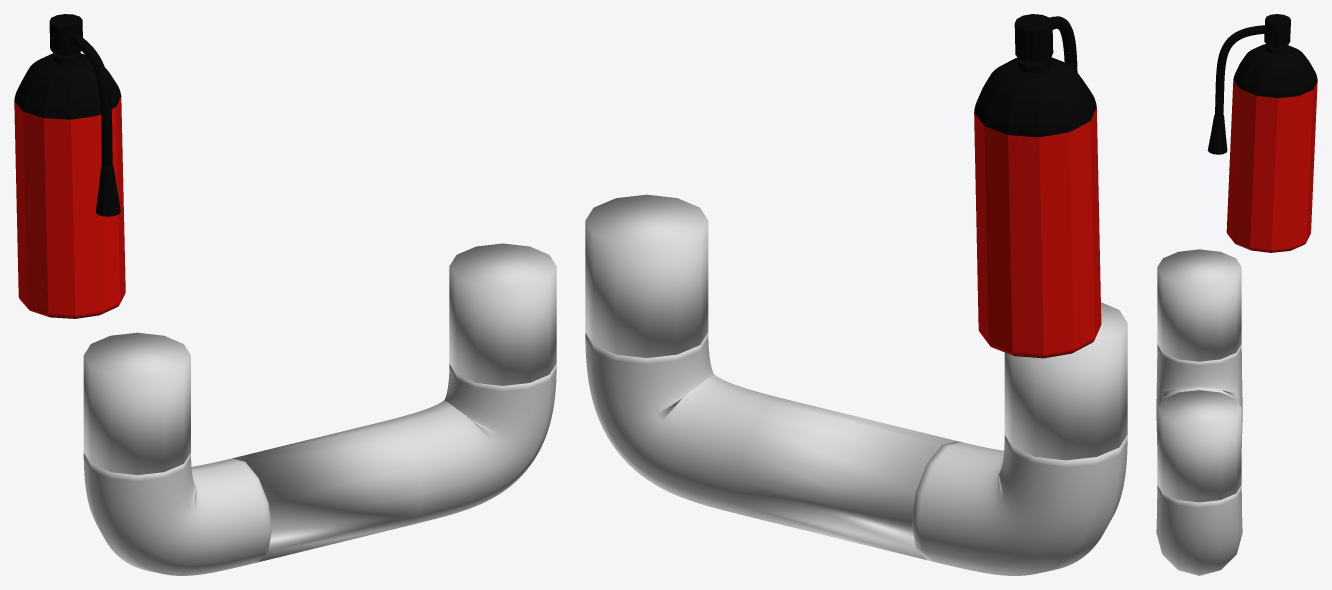
File: MATAFUEGO.fbx
3 renders of one model, left to right at view 1: azimuth 30°, elevation 25°; view 2: azimuth 150°, elevation 25°; view 3: azimuth 270°, elevation 25°, orthographic. The views are drawn at different scales.
Visible parts, largest first — view 1: Cylinder, Cylinder.001; view 2: Cylinder, Cylinder.001; view 3: Cylinder, Cylinder.001.
Boxes of the visible parts, bbox=[...] form: Cylinder: bbox=[83, 243, 556, 575]; Cylinder.001: bbox=[14, 14, 125, 318]; Cylinder: bbox=[585, 194, 1127, 575]; Cylinder.001: bbox=[974, 14, 1101, 358]; Cylinder: bbox=[1156, 249, 1242, 575]; Cylinder.001: bbox=[1207, 14, 1317, 252].
Bounding box in the file's own units: 1033 × 1099 × 381.
